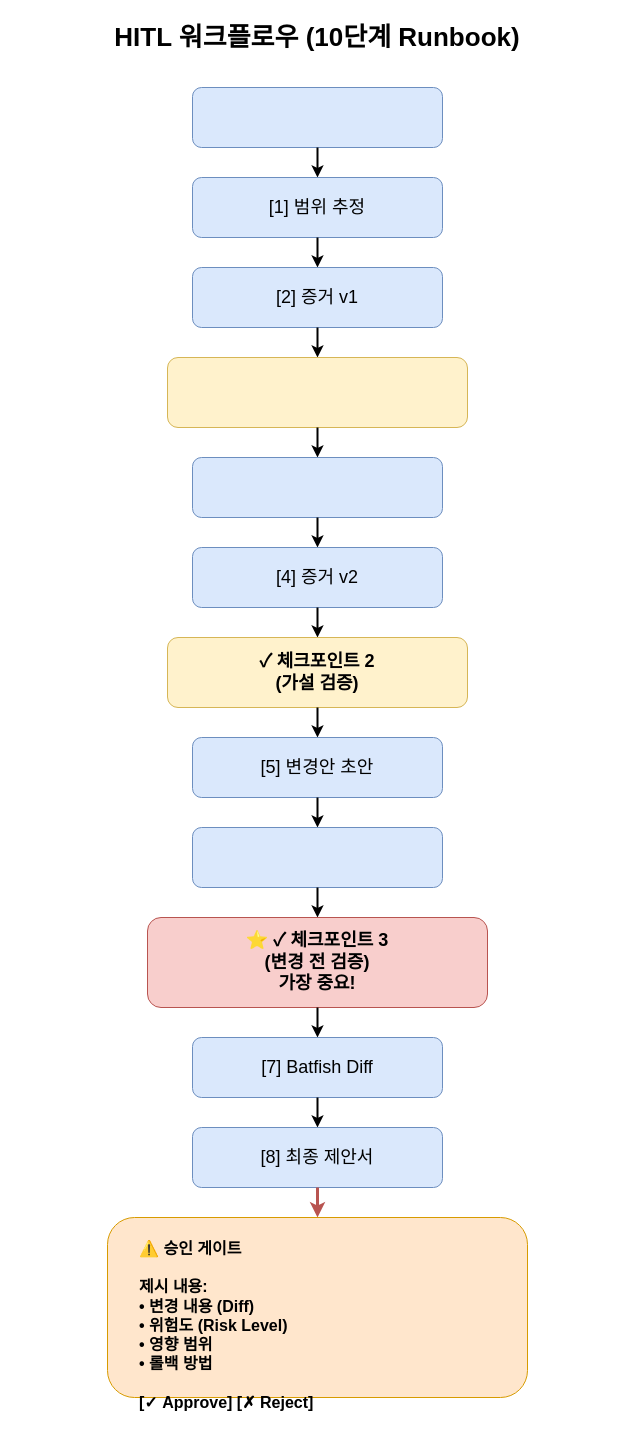
This 634x1429 diagram has some shape labels left out. The box of each missing label's shape, as (x1, y1, x2, y2) in pixels:
[0] 목표 확정: (192, 86, 442, 148)
[3] 가설 생성: (192, 456, 442, 518)
[6] Dry-run: (192, 826, 442, 888)
✓ 체크포인트 1 (초기 증거 검토): (166, 356, 468, 428)
